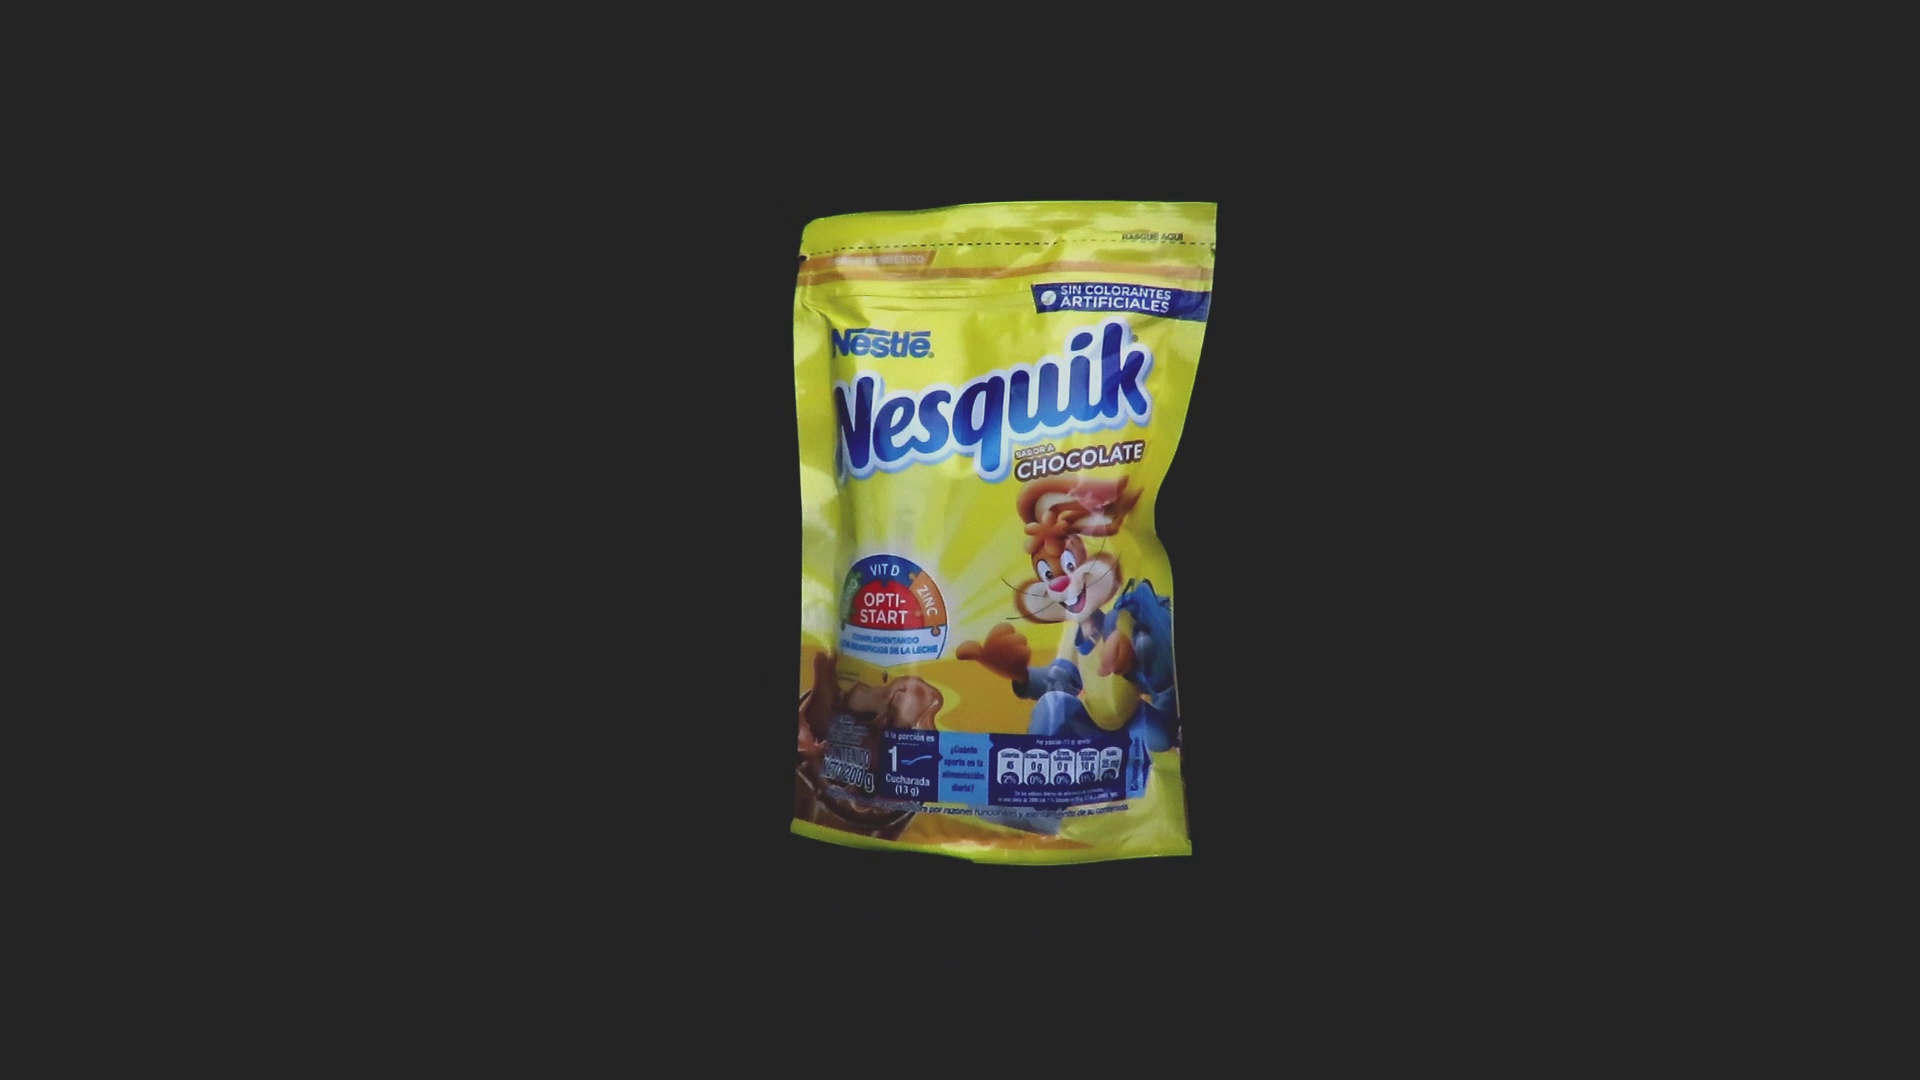COL0170303DYP20000: (785, 195, 1224, 872)
